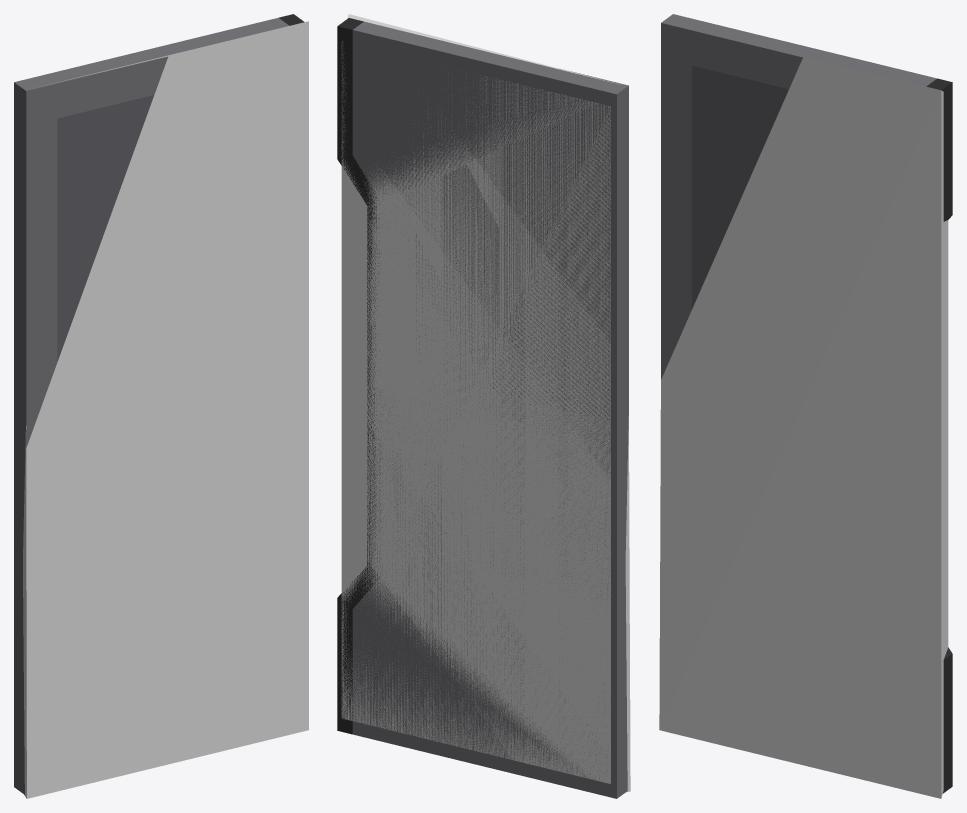
The model's file is SM_Bld_Lift_Door_02.fbx.
3 renders of one model, left to right at view 1: azimuth 30°, elevation 25°; view 2: azimuth 150°, elevation 25°; view 3: azimuth 330°, elevation 25°, orthographic.
Visible parts, largest first — view 1: SM_Bld_Lift_Door_02_ConvexHulls, SM_Bld_Lift_Door_02_LOD0; view 2: SM_Bld_Lift_Door_02_ConvexHulls, SM_Bld_Lift_Door_02_LOD0; view 3: SM_Bld_Lift_Door_02_ConvexHulls, SM_Bld_Lift_Door_02_LOD0.
Boxes of the visible parts, <box> form: SM_Bld_Lift_Door_02_ConvexHulls: <box>23,21,308,798</box>; SM_Bld_Lift_Door_02_LOD0: <box>14,14,304,794</box>; SM_Bld_Lift_Door_02_ConvexHulls: <box>341,14,630,792</box>; SM_Bld_Lift_Door_02_LOD0: <box>337,18,628,798</box>; SM_Bld_Lift_Door_02_ConvexHulls: <box>659,27,948,798</box>; SM_Bld_Lift_Door_02_LOD0: <box>661,14,952,793</box>.
Size of the model in its own units: 8.03 by 98.54 by 237.
1 material, 1 textured.
